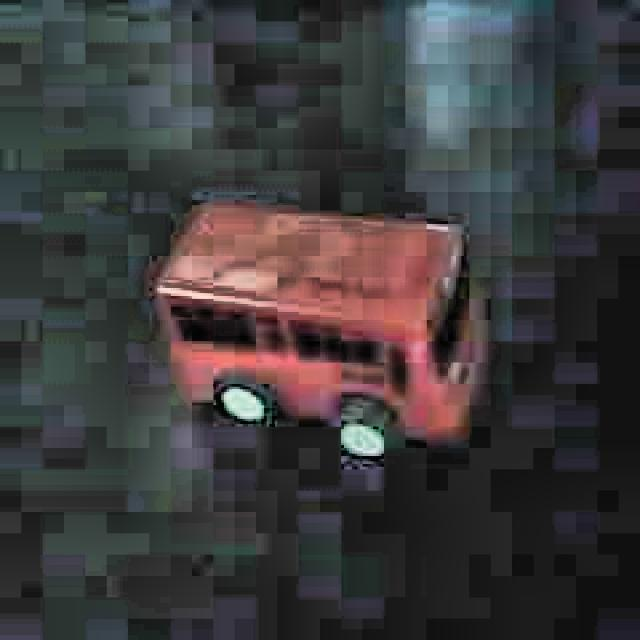bus: (147, 196, 486, 465)
